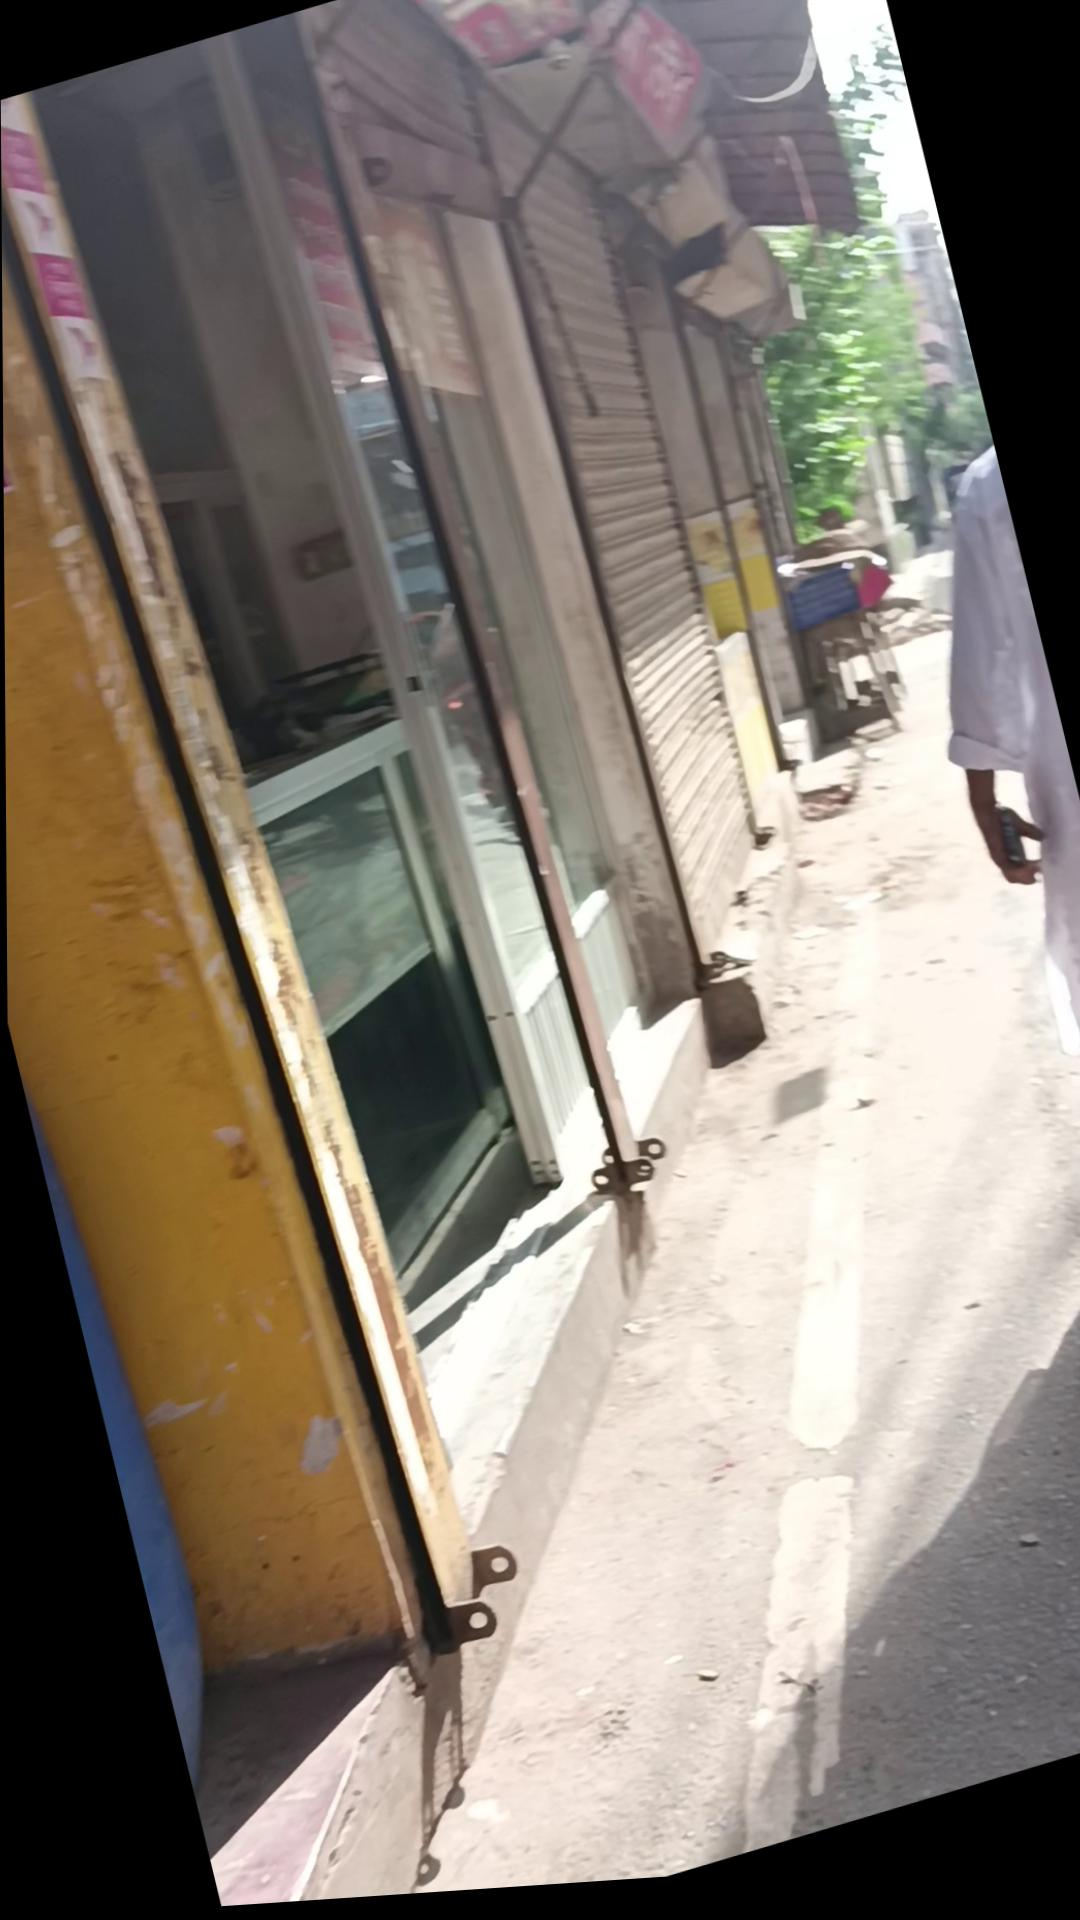Crosswalk: (47, 989, 895, 1917), (175, 1652, 480, 1911)
Muddy road: (877, 451, 1080, 1232)
